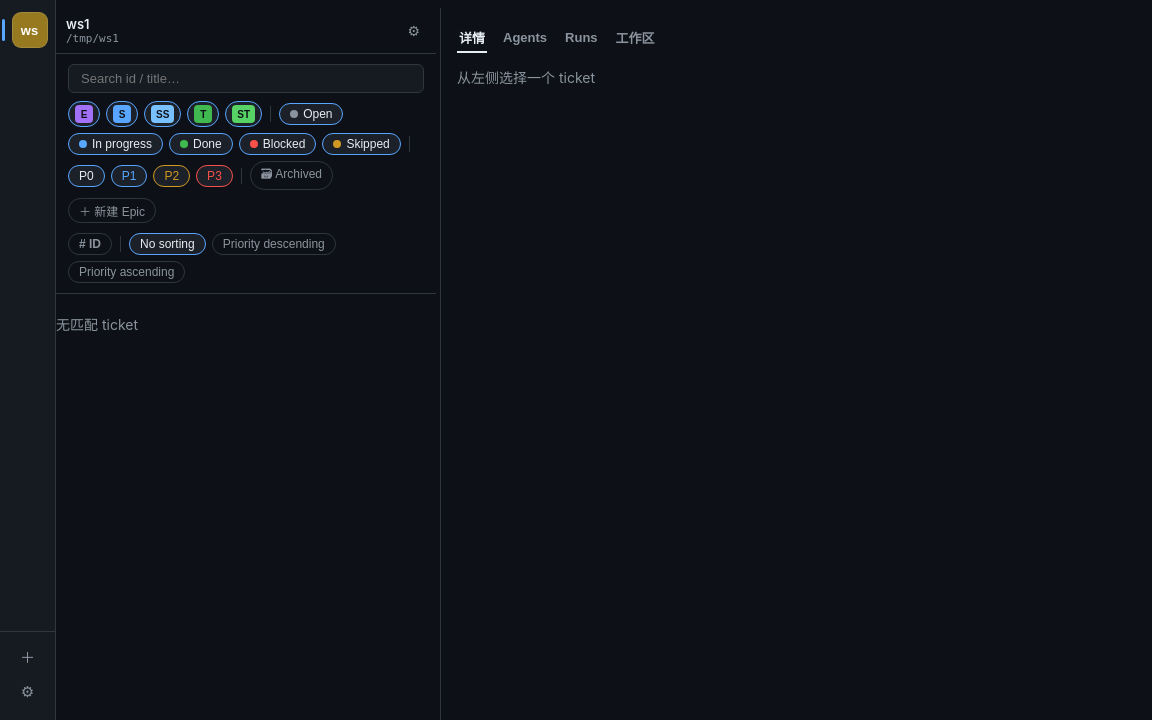
Test: U1 全局设置（R8） › 底部 ⚙：内容区显示 Daemon/DSH 集成/Harnesses/派发策略，没有 Workspaces 列表
Click the 2nd button titled "全局设置". click: (28, 692)
box: [12,676,44,708]
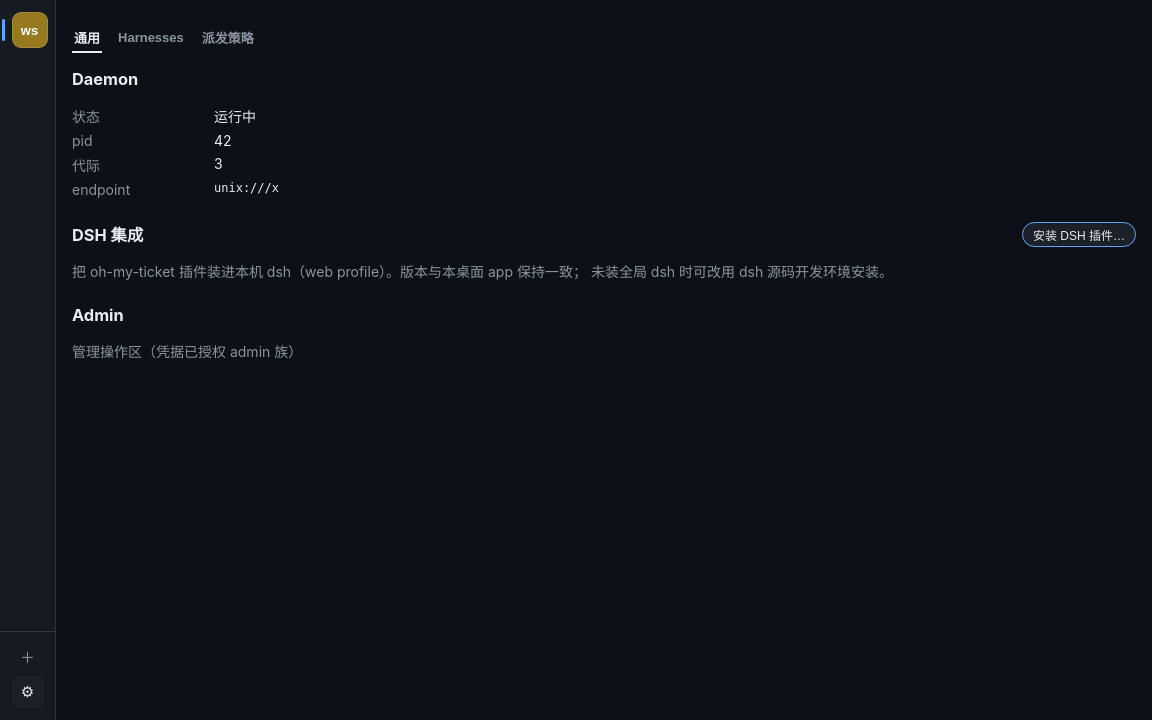
expect the heading "Daemon" is shown: met, box [72,69,138,89]
expect the heading "DSH 集成" is shown: met, box [72,222,143,246]
expect the button "Harnesses" is shown: met, box [116,24,186,53]
